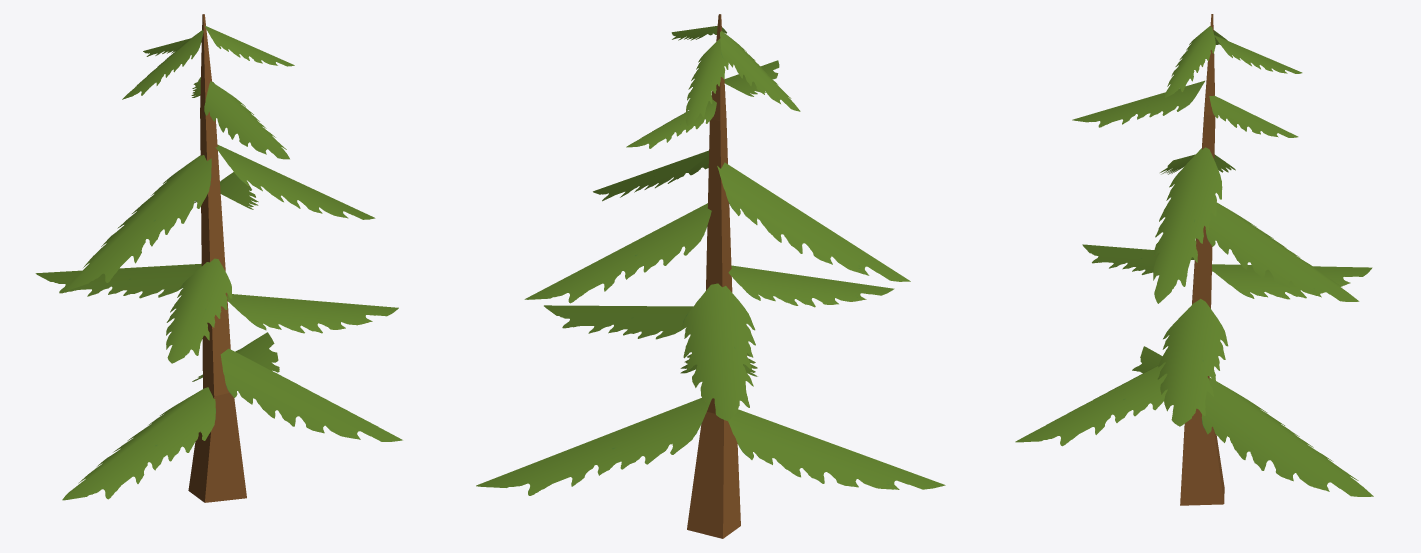
Rendered from Tree_low.fbx.
The picture shows the model from 3 angles, left to right: view 1: azimuth 30°, elevation 25°; view 2: azimuth 150°, elevation 25°; view 3: azimuth 270°, elevation 25°; orthographic projection. The views are drawn at different scales.
Visible parts, largest first — view 1: Cylinder.015; view 2: Cylinder.015; view 3: Cylinder.015.
Part boxes in pixels (x1,y1,x2,y2): Cylinder.015: (35,14,402,502); Cylinder.015: (476,14,945,538); Cylinder.015: (1015,14,1373,505).
Bounding box in the file's own units: 344 × 418 × 330.
Materials: 1 (1 with a texture image).
